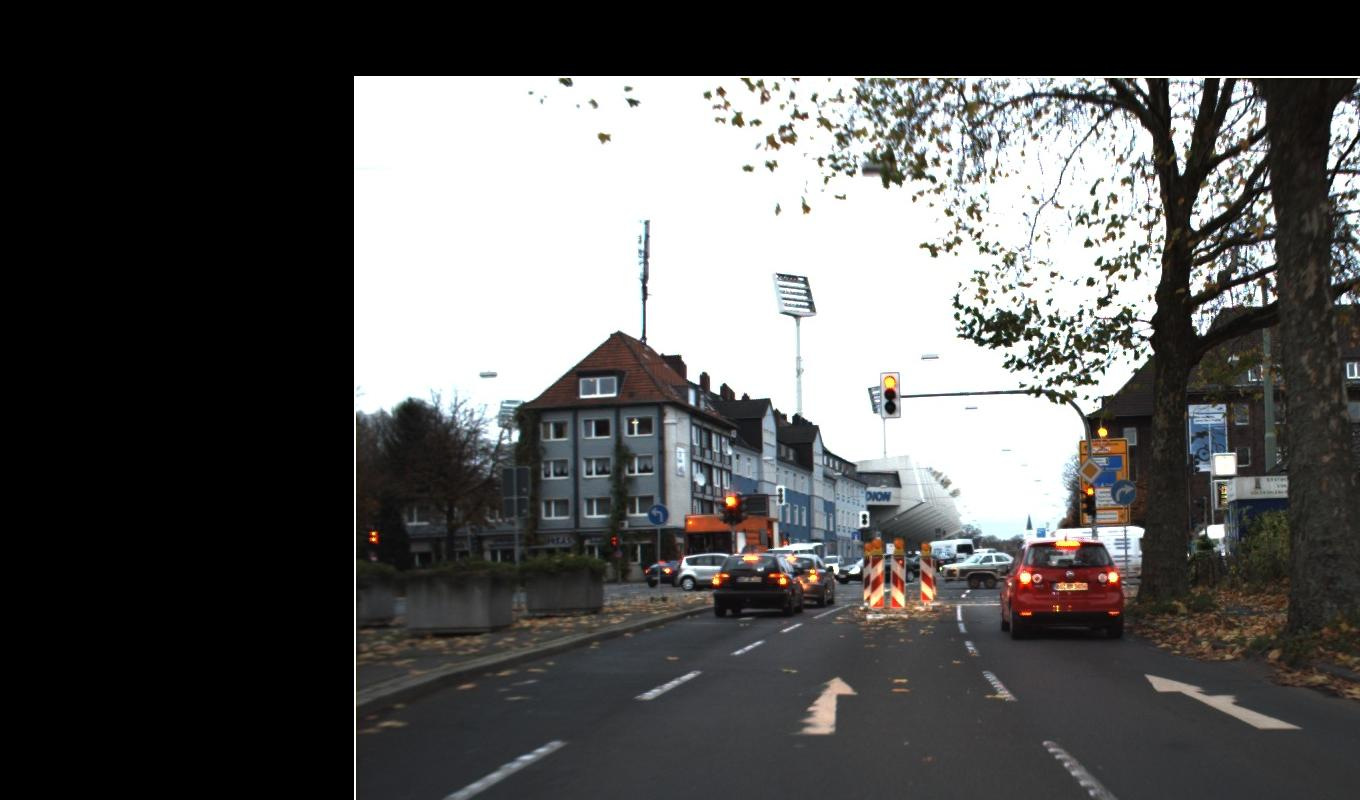go left: (647, 457, 1136, 526)
